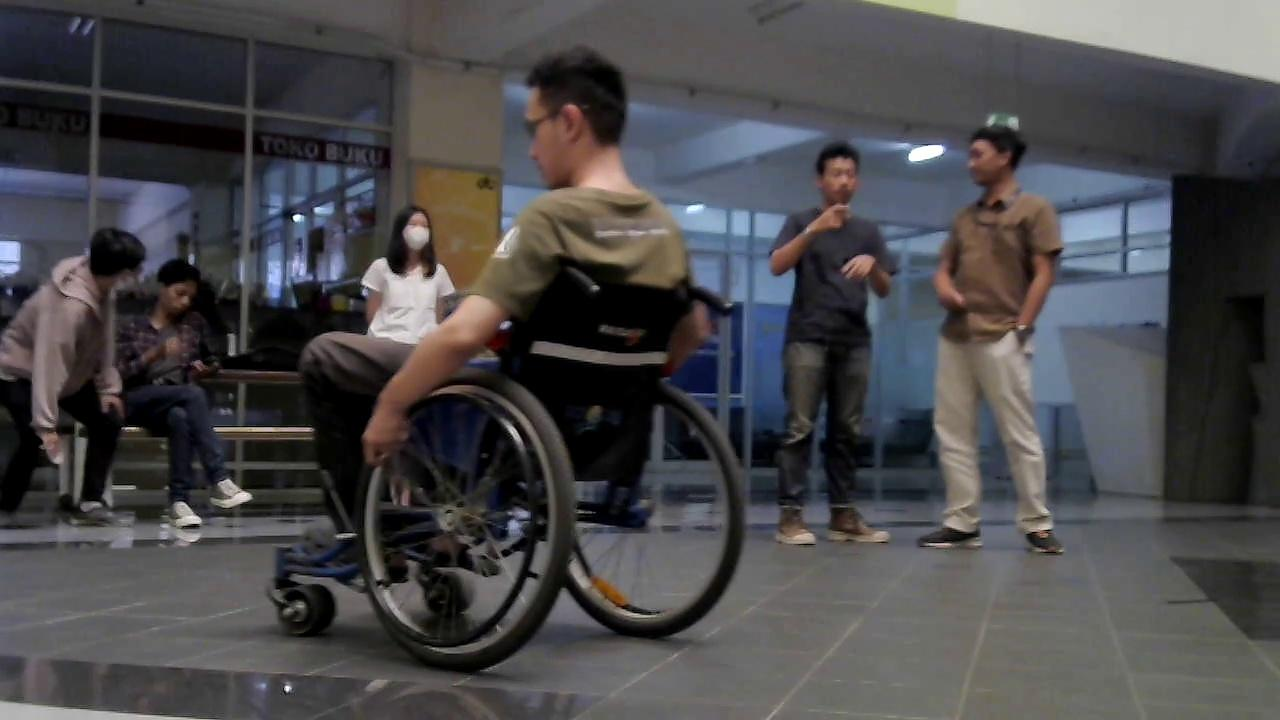person: (353, 44, 731, 511), (917, 113, 1070, 556), (296, 204, 459, 547), (767, 141, 898, 550), (0, 227, 147, 526), (120, 260, 250, 524)
wheelchair: (241, 245, 776, 681)
